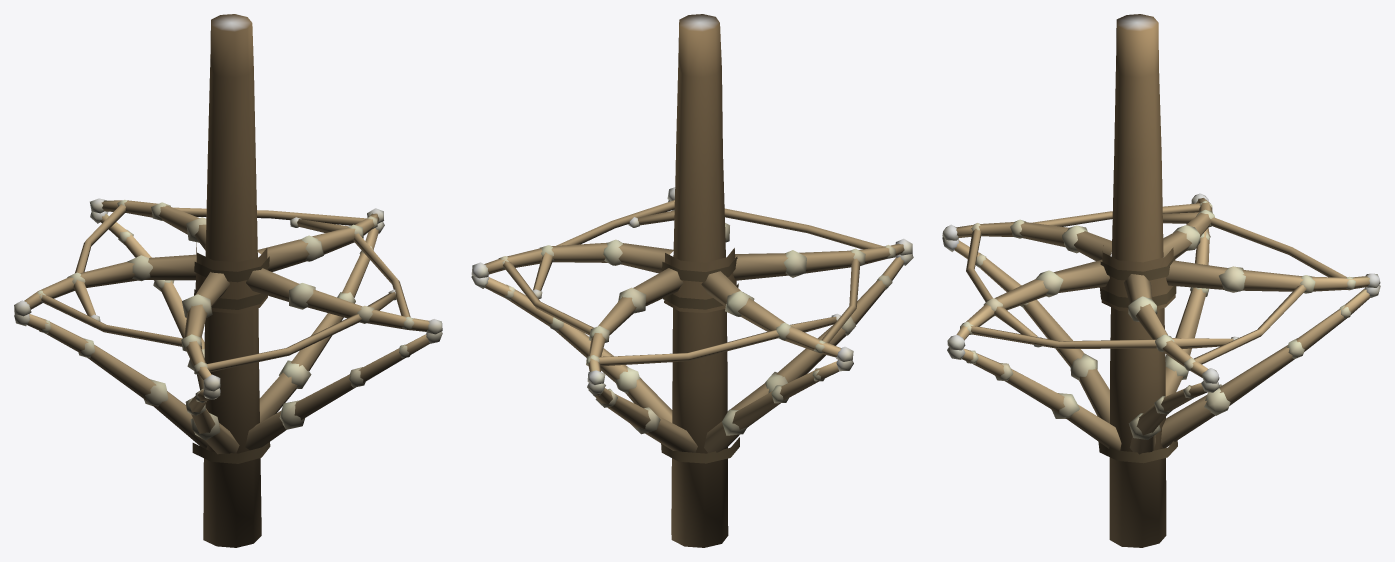
The model's file is chopper.glb.
3 views of the same model, side by side, from view 1: azimuth 30°, elevation 25°; view 2: azimuth 150°, elevation 25°; view 3: azimuth 270°, elevation 25° (orthographic).
Parts seen in each view (by area): view 1: chopper; view 2: chopper; view 3: chopper.
Boxes of the visible parts, left/top/right/bottom form: chopper: left=14, top=14, right=442, bottom=547; chopper: left=471, top=14, right=913, bottom=547; chopper: left=942, top=14, right=1380, bottom=547.
Bounding box in the file's own units: 4.22 × 5.51 × 4.27.
